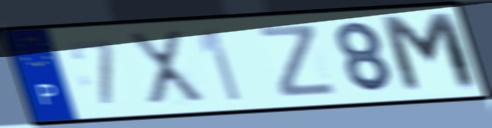1: (196, 25, 245, 105)
7: (68, 38, 117, 107)
8: (334, 20, 396, 94)
M: (376, 9, 485, 96)
X: (124, 27, 210, 106)
Z: (255, 22, 340, 100)
